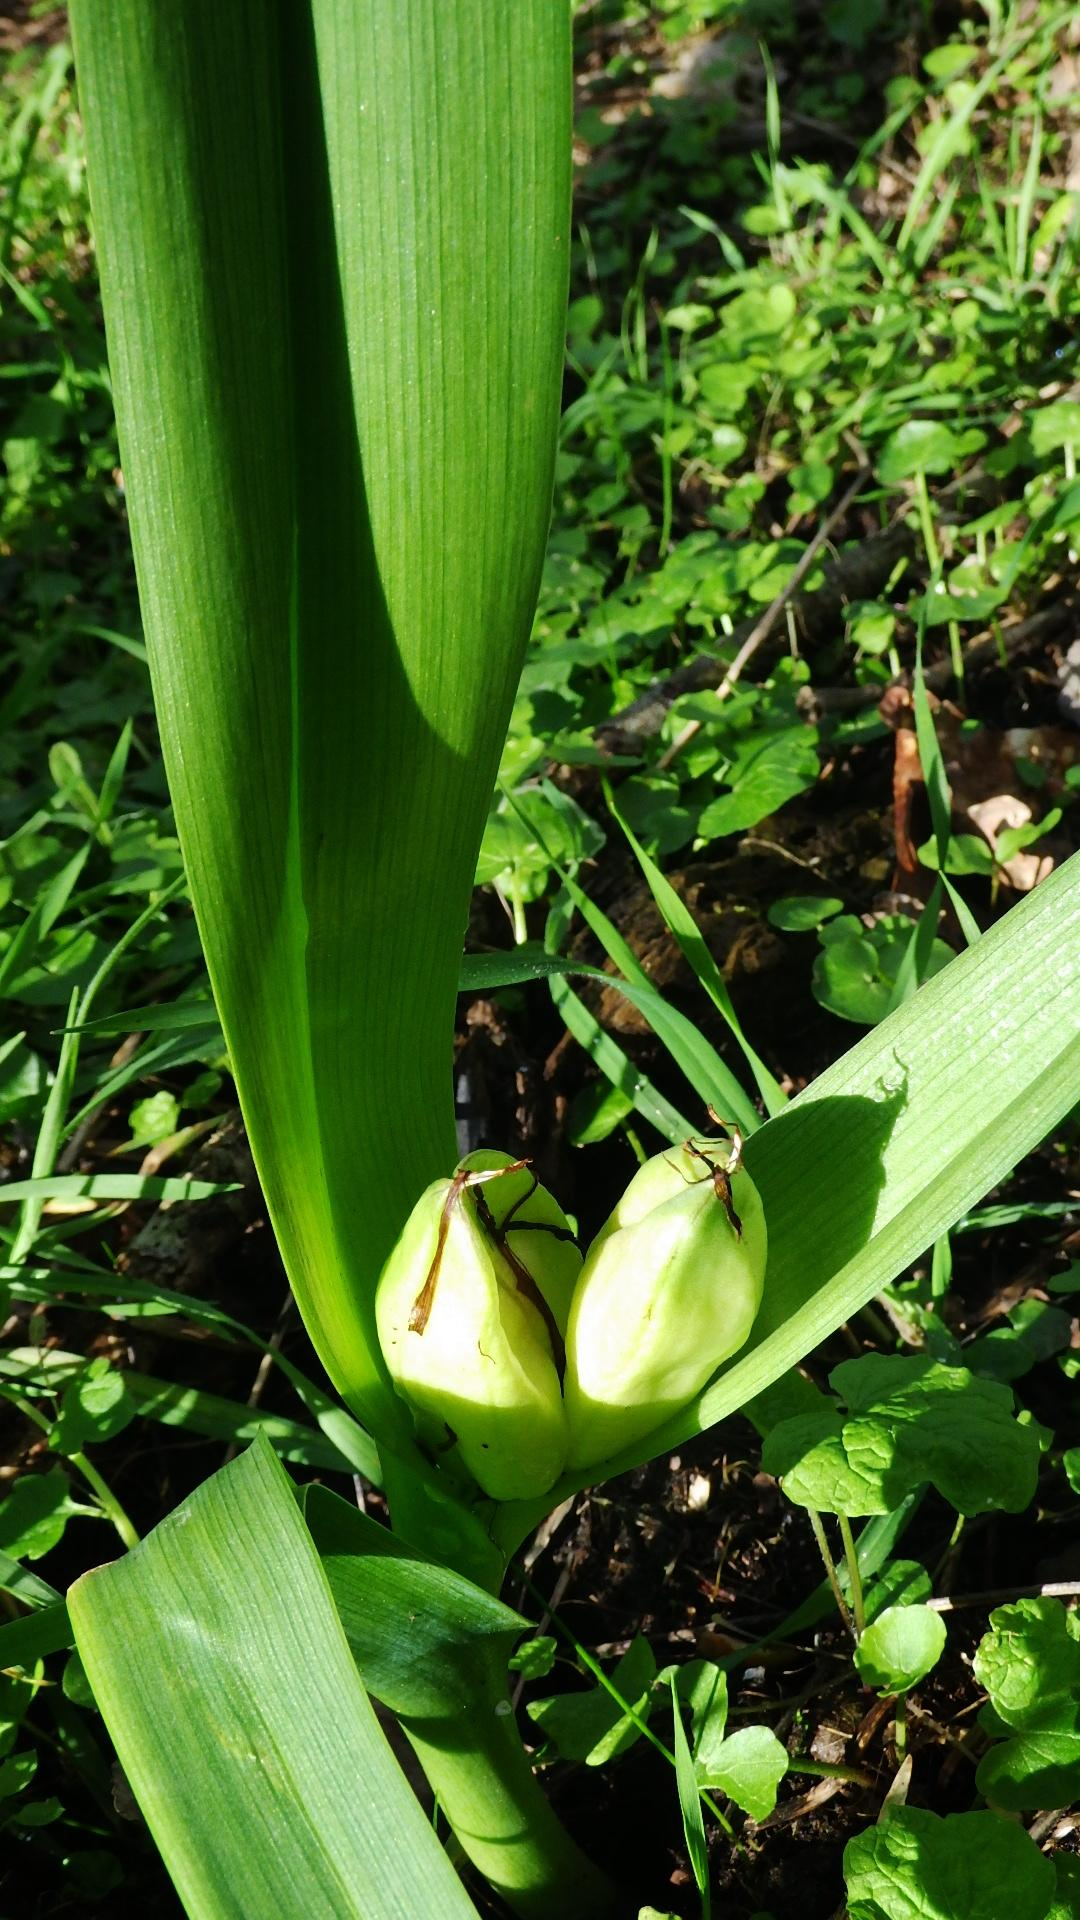Colchicum autumnale L: (127, 148, 996, 1782)
